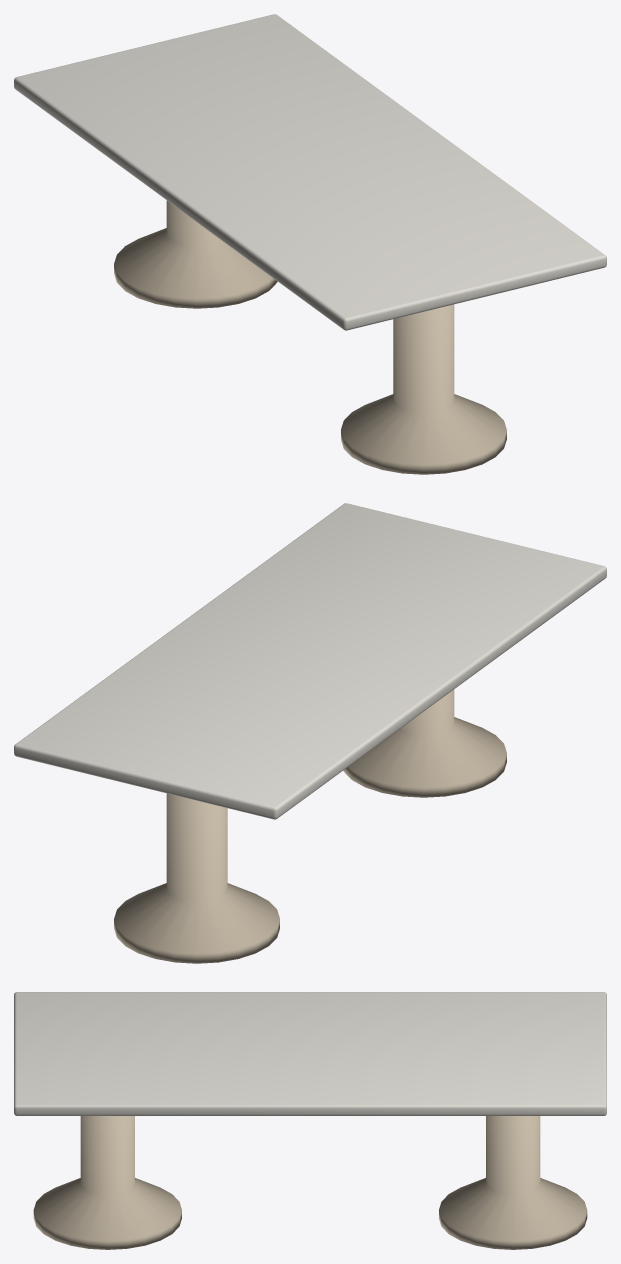
File: dining-table.glb
The picture shows the model from 3 angles, top to bottom: view 1: azimuth 30°, elevation 25°; view 2: azimuth 150°, elevation 25°; view 3: azimuth 270°, elevation 25°; orthographic projection. The views are drawn at different scales.
Visible parts, largest first — view 1: dining_top, dining_leg_-1, dining_leg_1; view 2: dining_top, dining_leg_1, dining_leg_-1; view 3: dining_top, dining_leg_1, dining_leg_-1.
Part boxes in pixels (x1,y1,x2,y2): dining_top: [14, 14, 606, 330]; dining_leg_-1: [341, 304, 506, 474]; dining_leg_1: [114, 200, 277, 308]; dining_top: [14, 503, 606, 819]; dining_leg_1: [114, 793, 279, 963]; dining_leg_-1: [343, 689, 506, 797]; dining_top: [14, 992, 606, 1115]; dining_leg_1: [439, 1116, 587, 1249]; dining_leg_-1: [33, 1116, 181, 1249].
Size of the model in its own units: 1.1 by 0.76 by 2.4.
